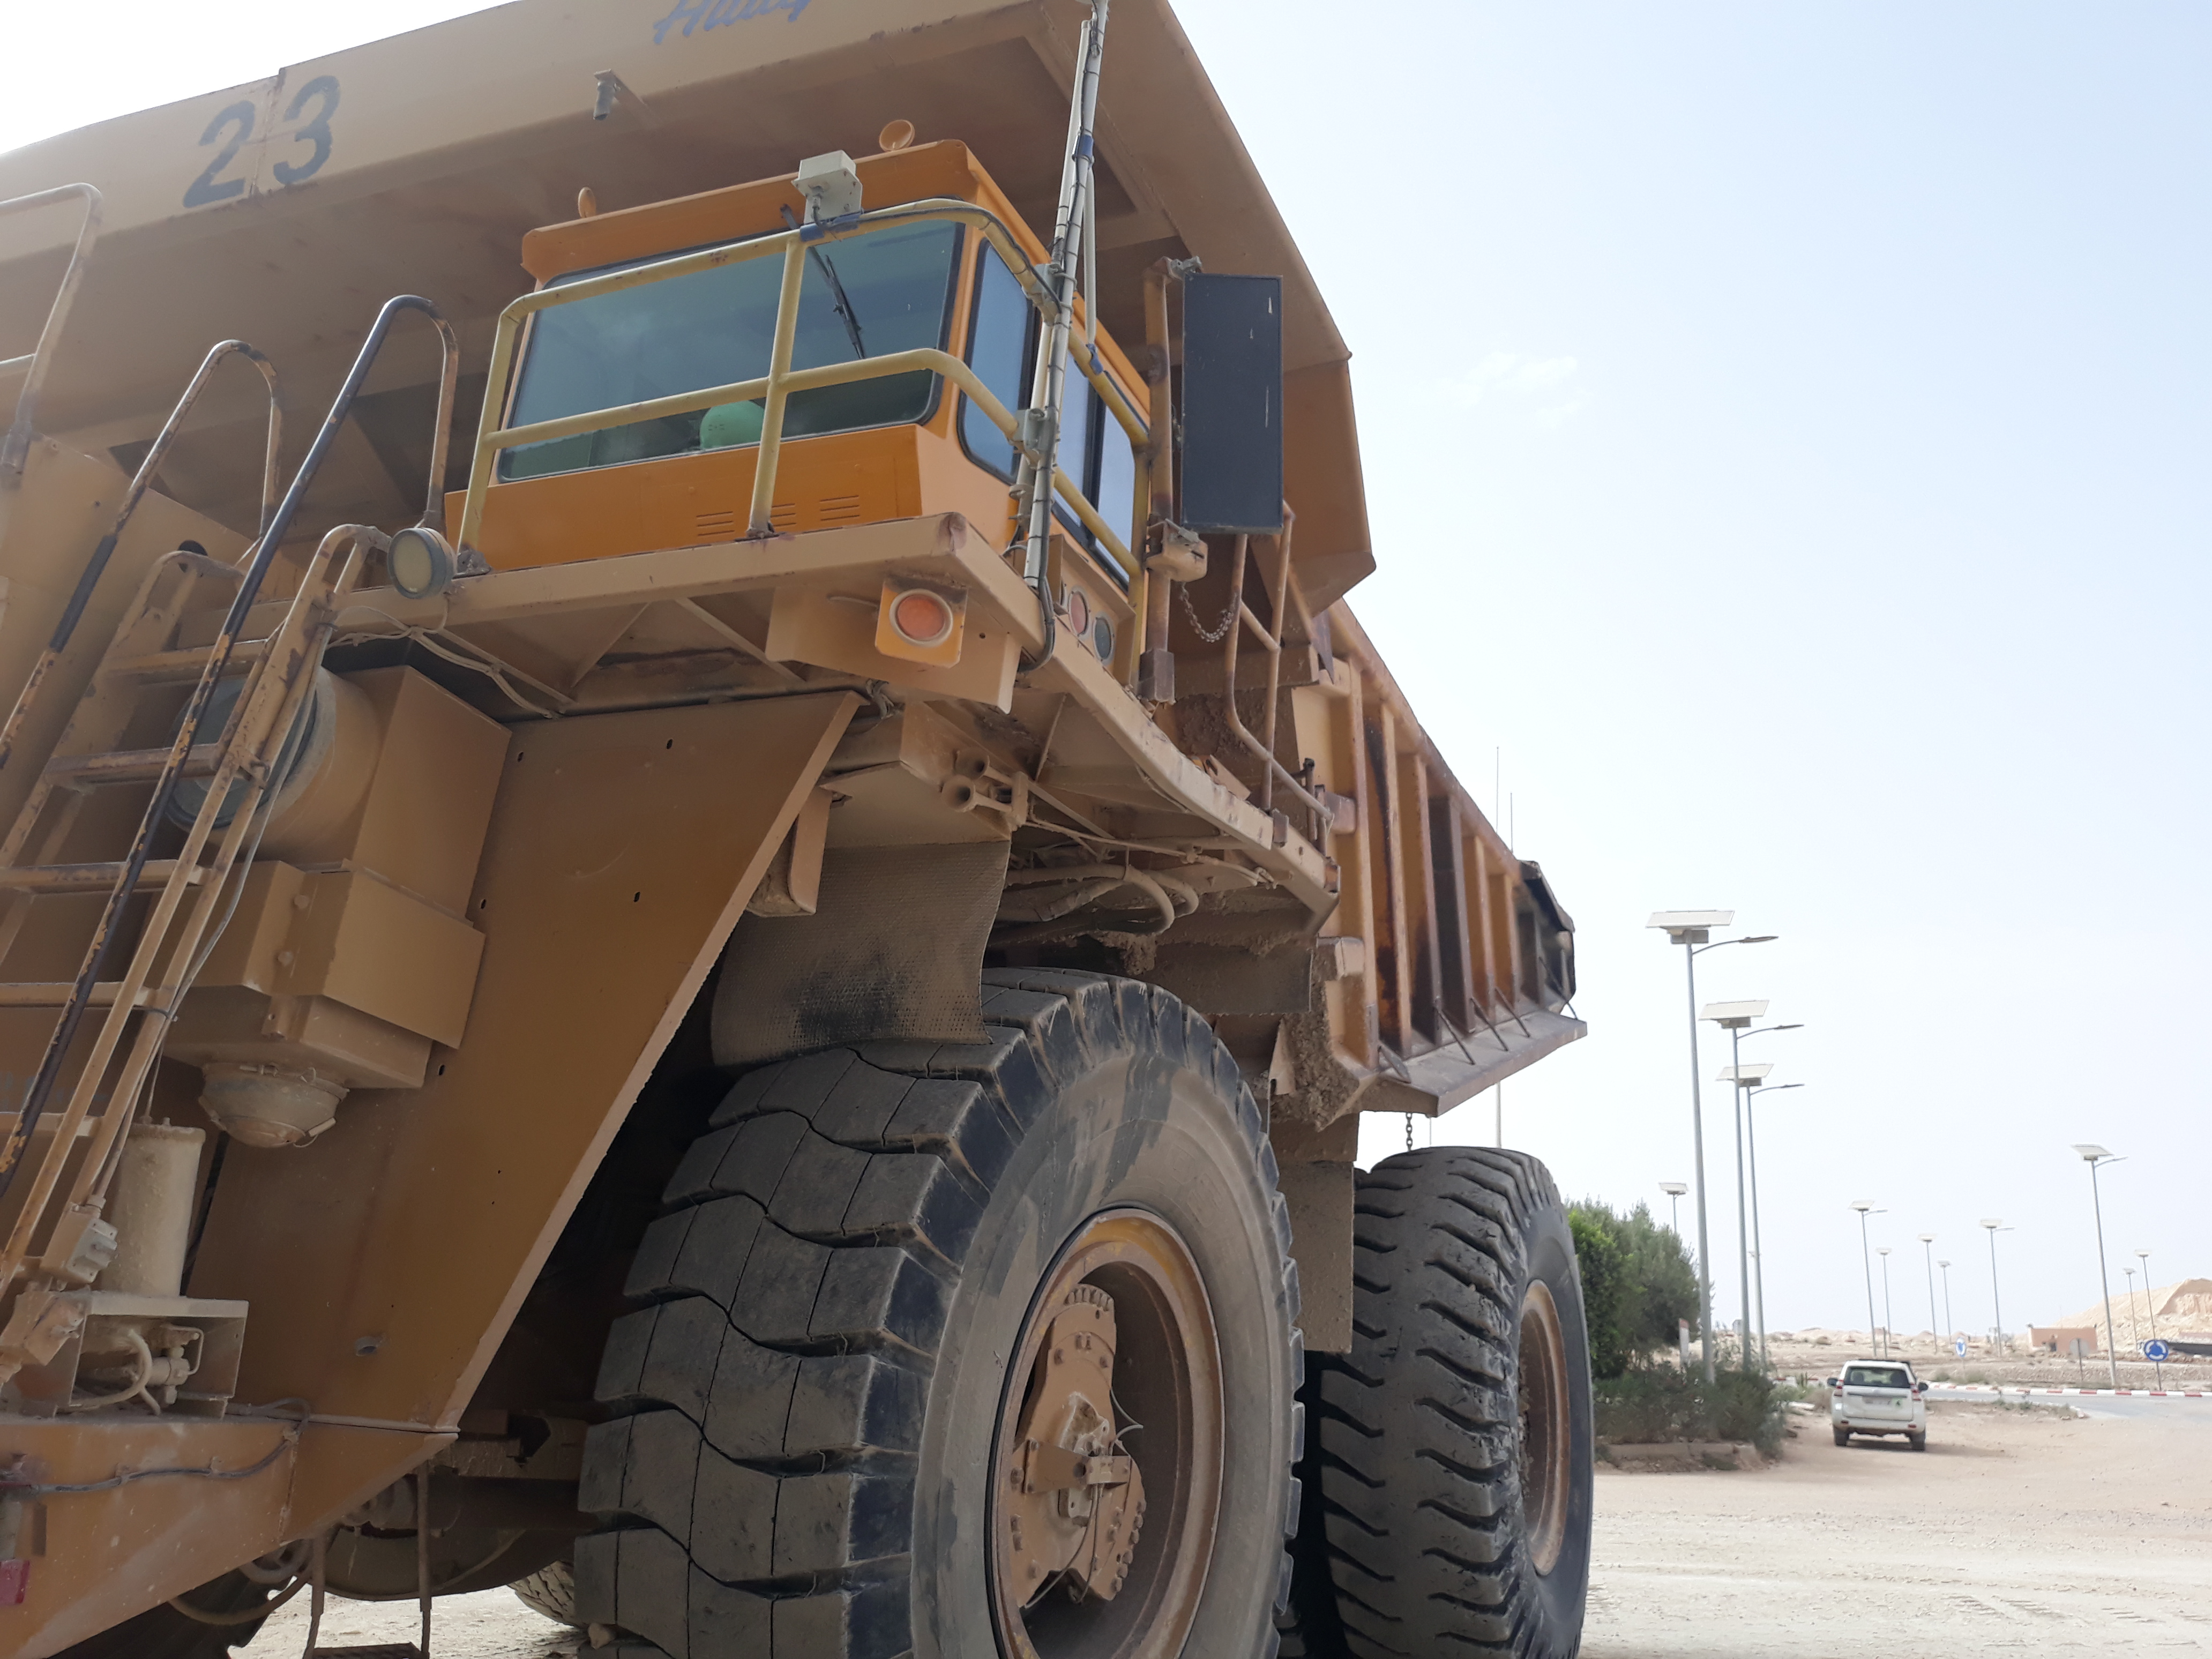camion: (3, 10, 1620, 1659)
car: (1817, 1340, 1937, 1464)
